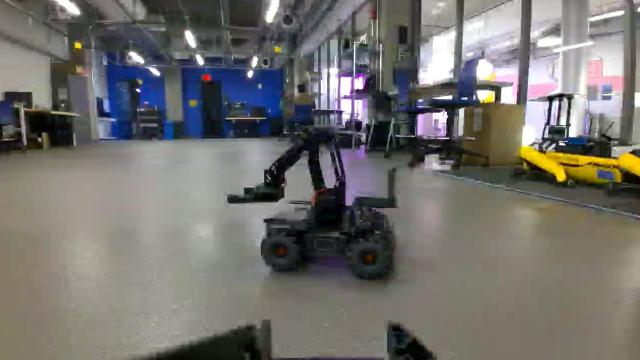robot: (223, 126, 404, 285)
